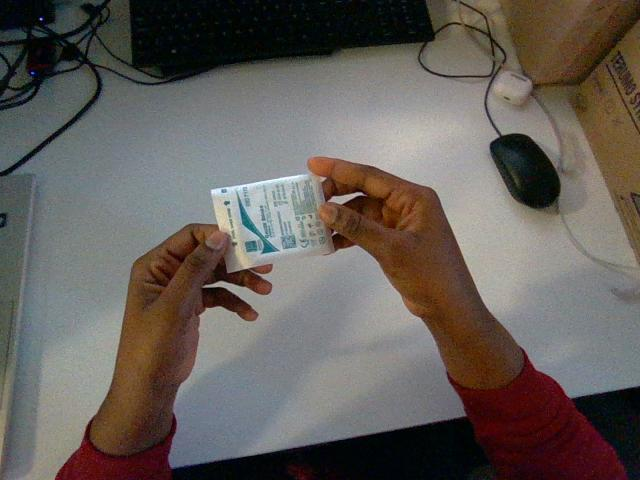gauze: (211, 174, 333, 272)
